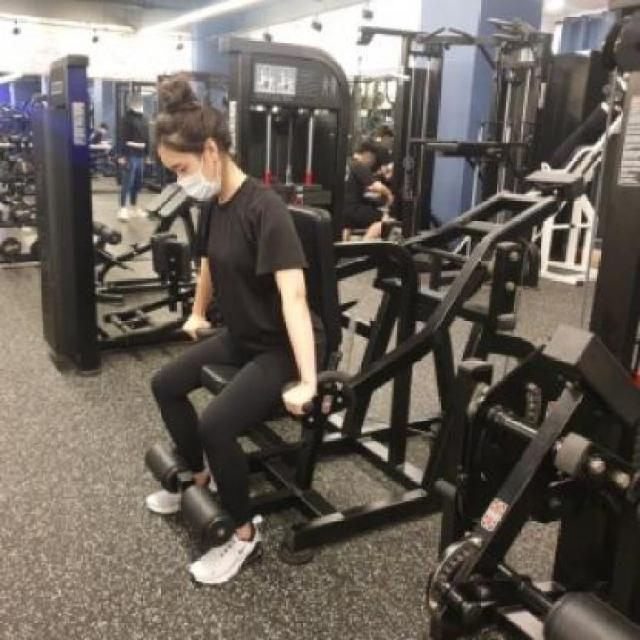seated dip machine: (144, 31, 596, 474)
